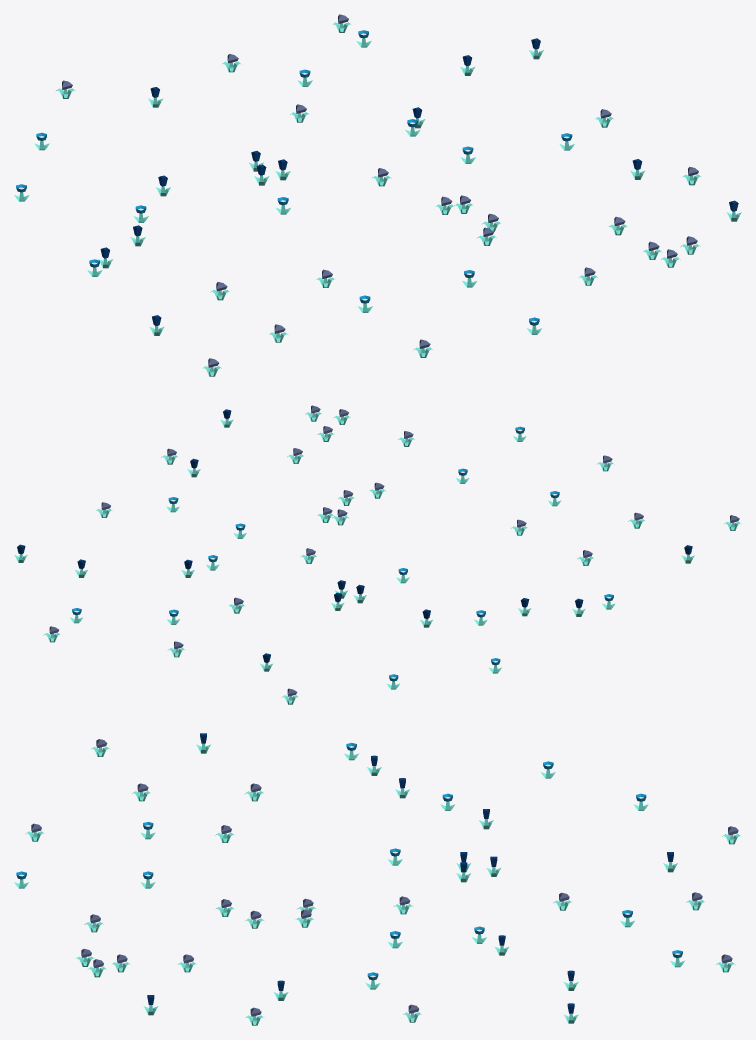
Rendered from blue1.fbx.
3 views of the same model, one above another, from view 1: azimuth 30°, elevation 25°; view 2: azimuth 150°, elevation 25°; view 3: azimuth 270°, elevation 25° (orthographic). The views are drawn at different scales.
Visible parts, largest first — view 1: flower_purpleB25; view 2: flower_purpleB25; view 3: flower_purpleB25.
Boxes of the visible parts, box(x1,y1,x2,y2) form: flower_purpleB25: box(14, 14, 741, 376); flower_purpleB25: box(14, 405, 740, 704); flower_purpleB25: box(14, 733, 740, 1025).
Size of the model in its own units: 40.77 by 1.75 by 45.49.
